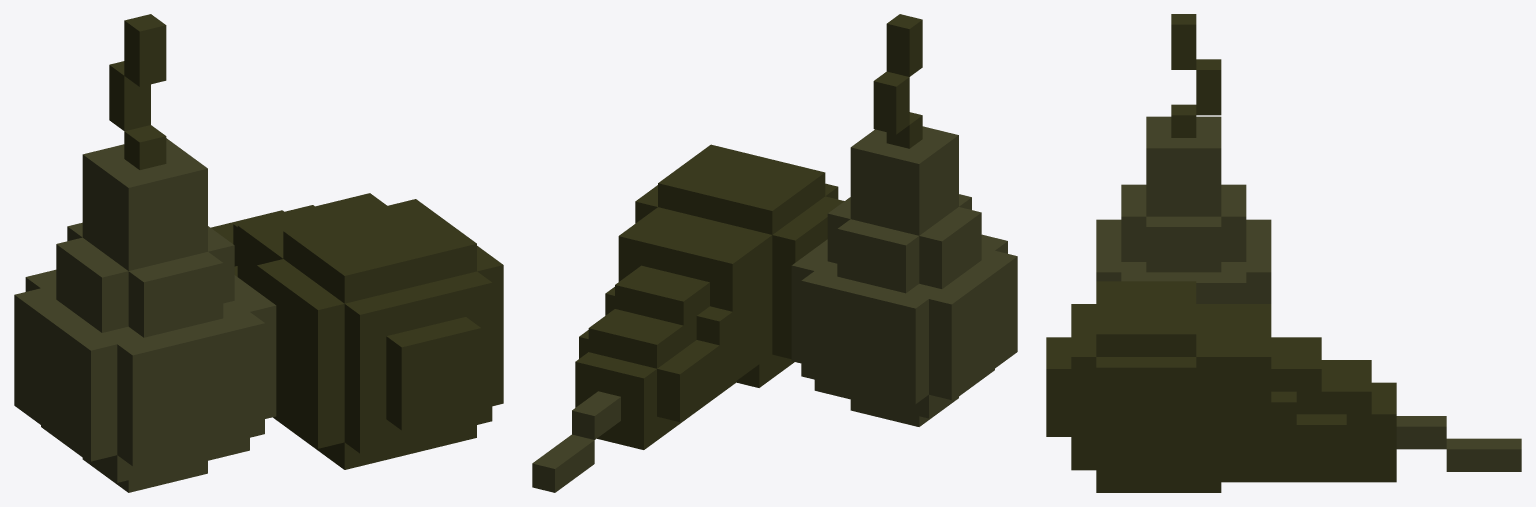
Rendered from Pear.glb.
3 views of the same model, side by side, from view 1: azimuth 30°, elevation 25°; view 2: azimuth 150°, elevation 25°; view 3: azimuth 270°, elevation 25° (orthographic). The views are drawn at different scales.
Visible parts, largest first — view 1: pear.vox; view 2: pear.vox; view 3: pear.vox.
Boxes of the visible parts, x1=… form: pear.vox: x1=14, y1=14, x2=503, y2=492; pear.vox: x1=532, y1=14, x2=1017, y2=492; pear.vox: x1=1046, y1=14, x2=1521, y2=492.
Size of what is drawn, in the model's own units: 1.5 by 1.6 by 1.9.
Materials: 1 (1 with a texture image).
